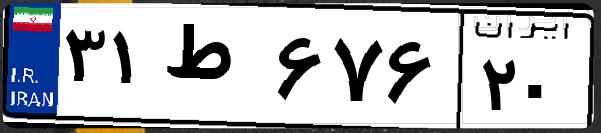0: (525, 38, 570, 115)
1: (110, 28, 158, 98)
2: (475, 38, 525, 113)
3: (57, 26, 110, 100)
6: (270, 28, 330, 110), (385, 28, 445, 110)
7: (330, 28, 385, 110)
ط: (158, 20, 270, 120)
